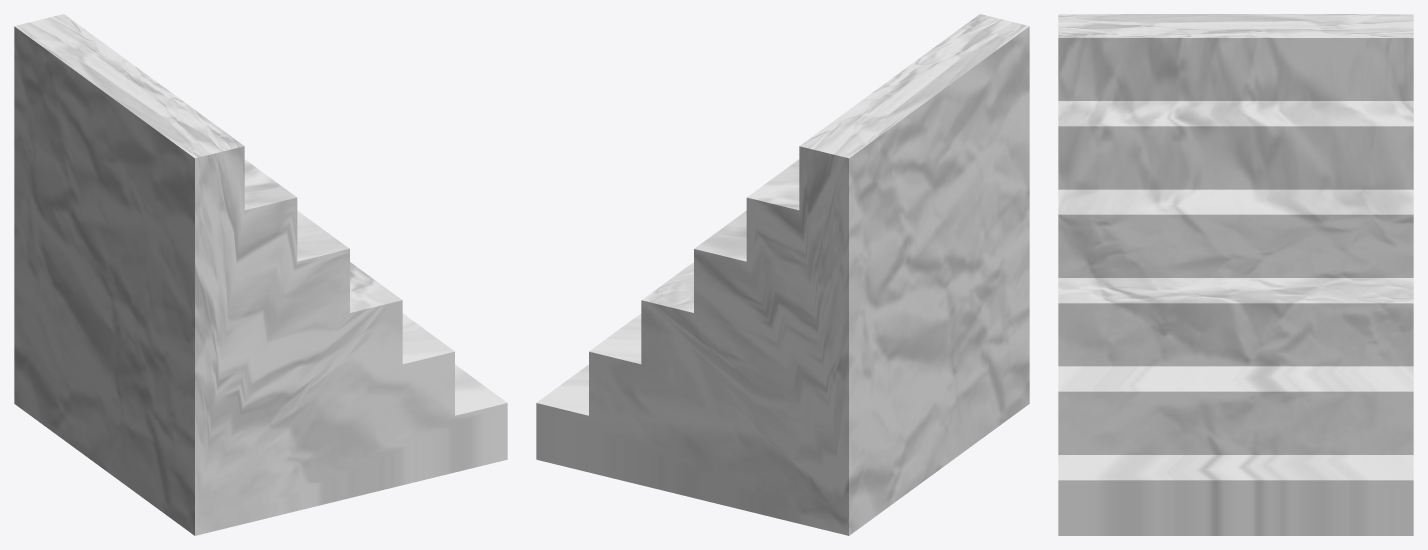
File: Stair.fbx
3 views of the same model, side by side, from view 1: azimuth 30°, elevation 25°; view 2: azimuth 150°, elevation 25°; view 3: azimuth 270°, elevation 25° (orthographic).
Parts seen in each view (by area): view 1: Cone.002; view 2: Cone.002; view 3: Cone.002.
Boxes of the visible parts, bbox=[...] form: Cone.002: bbox=[14, 14, 507, 535]; Cone.002: bbox=[536, 14, 1029, 535]; Cone.002: bbox=[1058, 14, 1413, 535].
Bounding box in the file's own units: 200 × 231 × 200.
